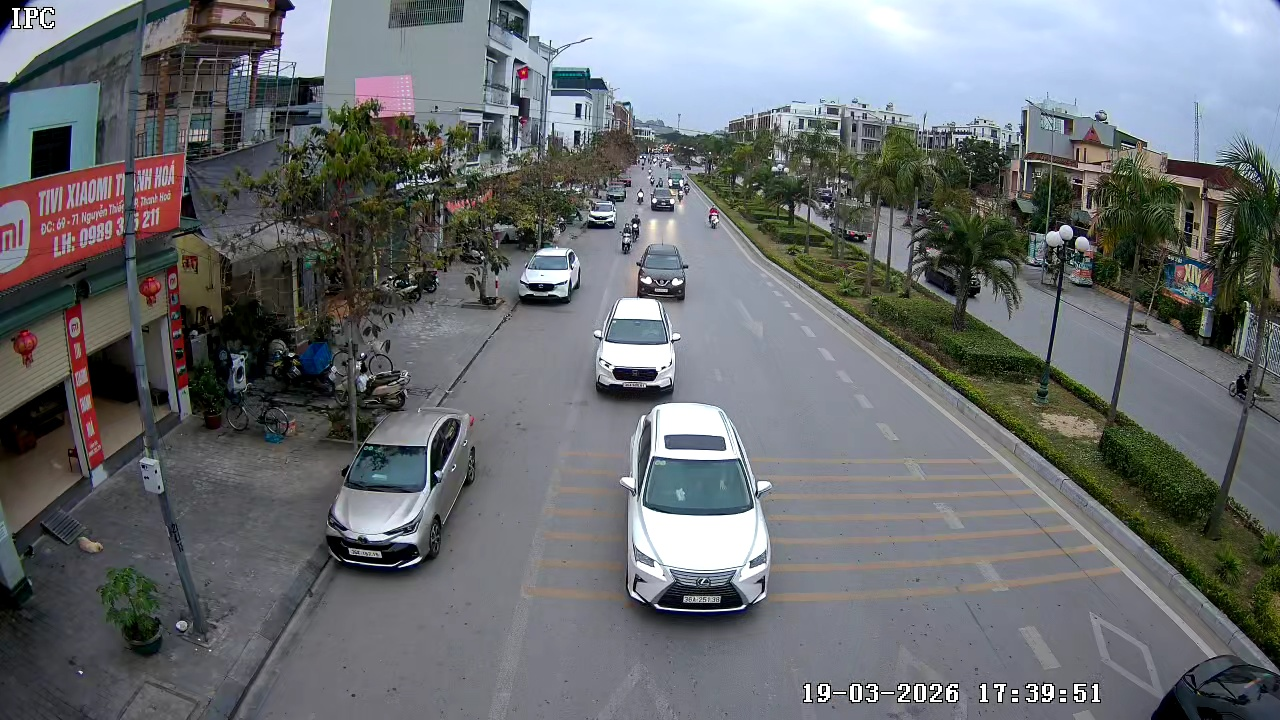car: (619, 400, 773, 615), (325, 407, 477, 571), (592, 297, 683, 397), (517, 245, 583, 304), (635, 242, 690, 301), (583, 198, 617, 228), (651, 188, 676, 211)
motorbike: (355, 341, 412, 412), (478, 267, 499, 307), (619, 215, 639, 254), (706, 204, 721, 230)
